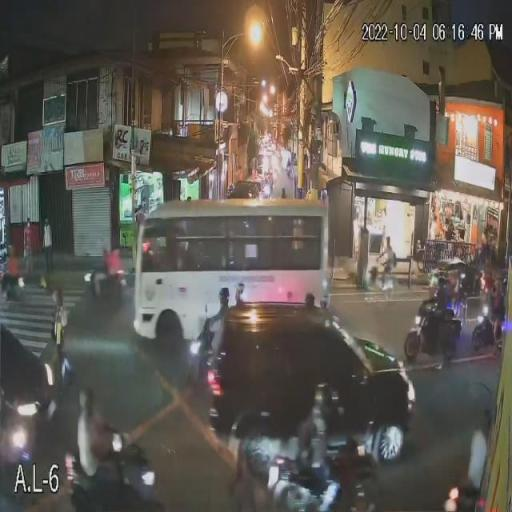helmet: (313, 384, 328, 405), (426, 276, 440, 290), (482, 287, 492, 302)
motorcycle: (262, 439, 373, 511), (70, 435, 161, 511), (403, 295, 456, 366), (187, 313, 225, 384), (84, 262, 130, 302), (438, 267, 468, 323), (470, 301, 502, 352), (367, 261, 398, 297)
rider: (75, 388, 132, 502), (294, 382, 339, 488), (418, 278, 452, 348), (478, 280, 502, 334), (102, 242, 126, 292), (4, 244, 26, 296), (444, 270, 465, 318)
